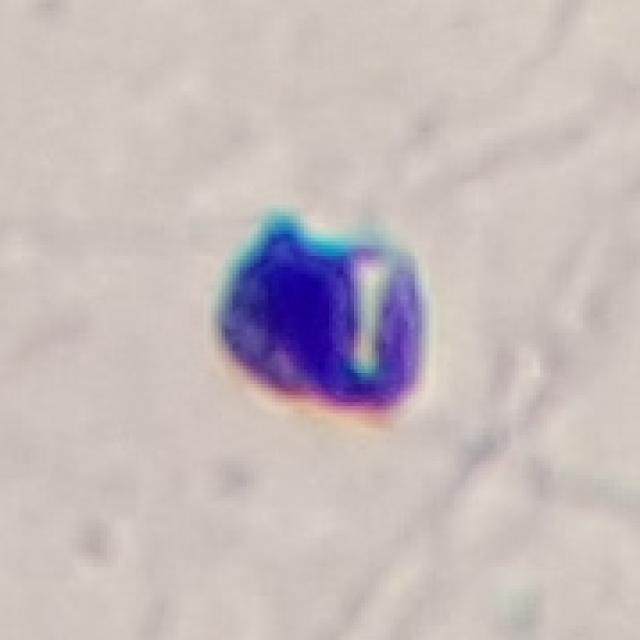non-sperm: (211, 216, 429, 418)
